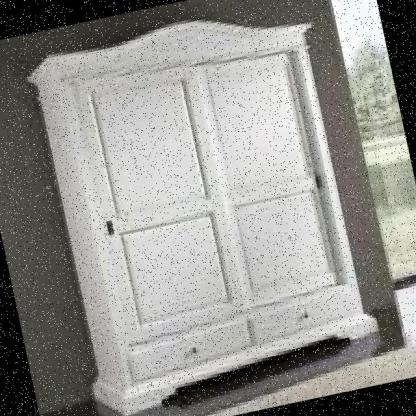Closet: (19, 0, 392, 416)
